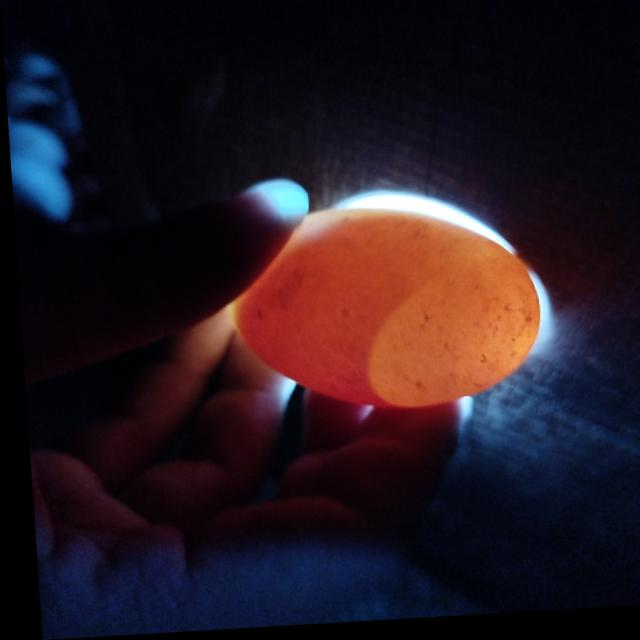Camara de Ar: (363, 265, 535, 411)
